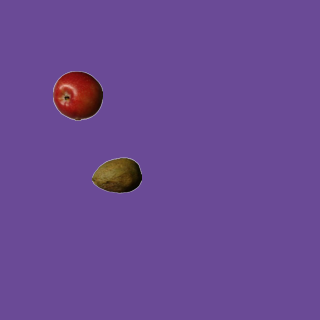Apple Braeburn: (52, 70, 102, 120)
Papaya: (91, 150, 141, 200)
